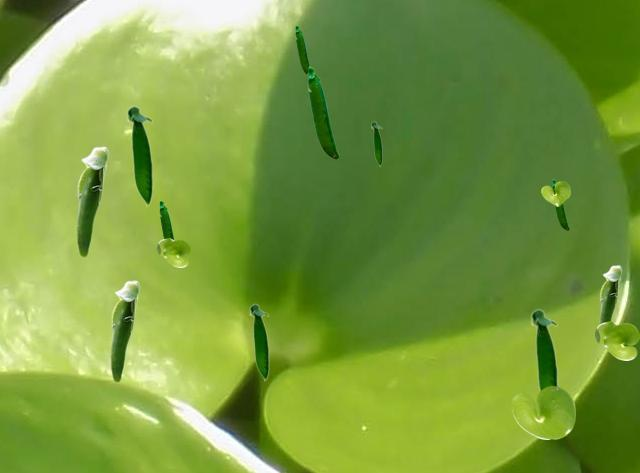pea: (76, 146, 108, 257), (110, 280, 139, 382), (307, 66, 338, 158), (126, 105, 152, 207), (530, 308, 557, 390), (249, 303, 268, 381), (599, 265, 621, 323), (552, 179, 568, 229), (295, 25, 310, 75), (159, 200, 174, 239), (371, 121, 381, 166)
